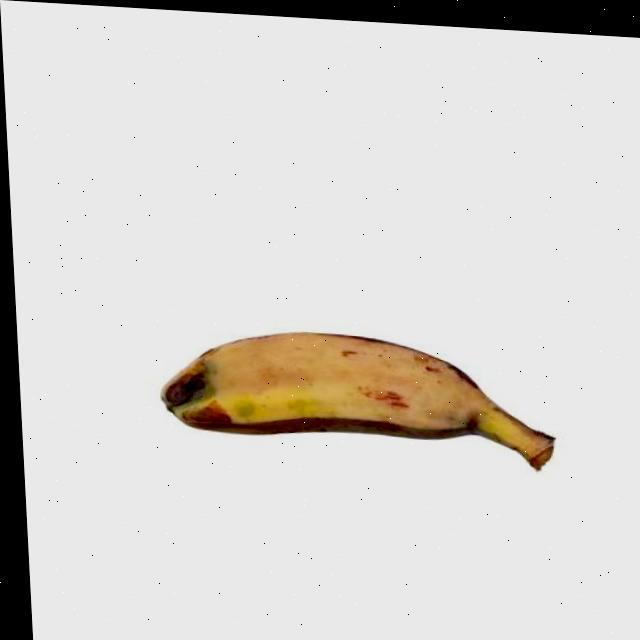banana: (153, 313, 564, 476)
